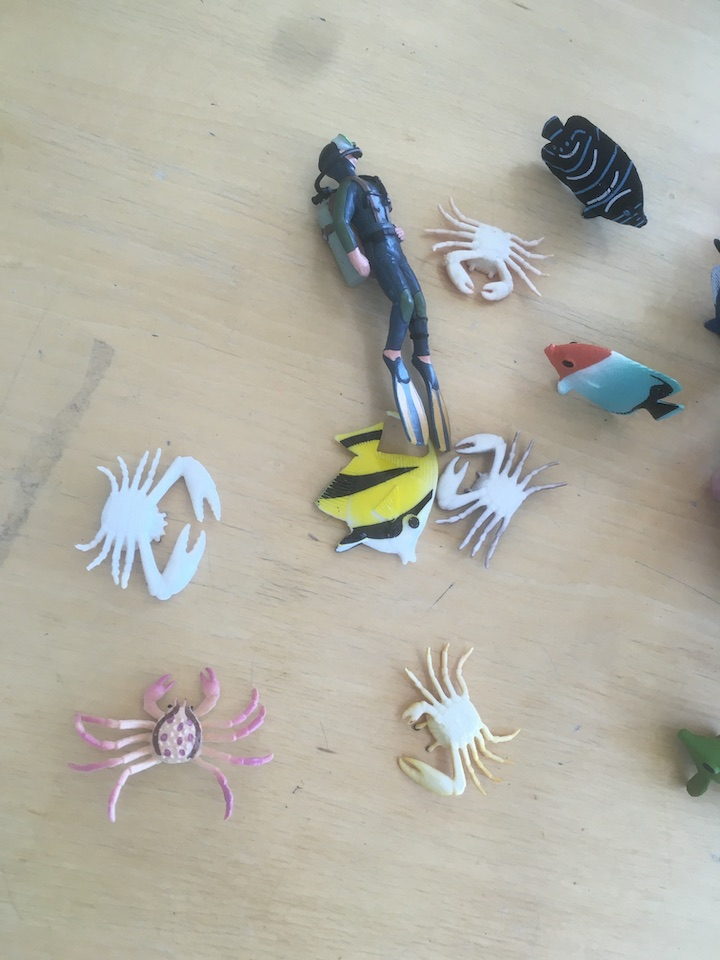crab: (62, 659, 278, 827), (71, 444, 225, 605), (391, 638, 523, 802), (431, 426, 572, 577), (418, 190, 559, 308)
danger: (311, 404, 445, 568)
diver: (306, 129, 460, 462)
fish: (531, 107, 654, 232), (539, 334, 689, 427), (674, 719, 720, 806)
